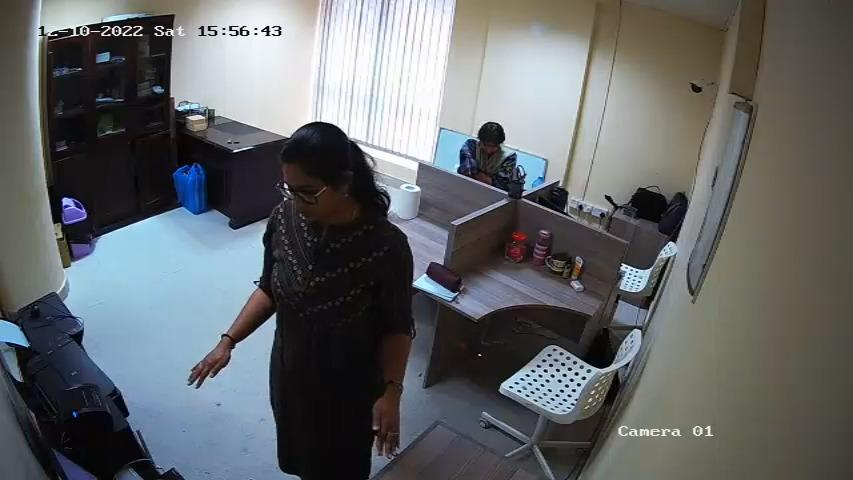no_gloves: (368, 394, 405, 462), (182, 345, 235, 391), (400, 334, 401, 334)
